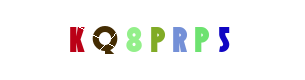5: (184, 0, 264, 80)
8: (109, 0, 189, 80)
K: (36, 0, 116, 80)
P: (112, 0, 192, 80), (139, 0, 219, 80)
Q: (65, 0, 145, 80)
R: (122, 0, 202, 80)
